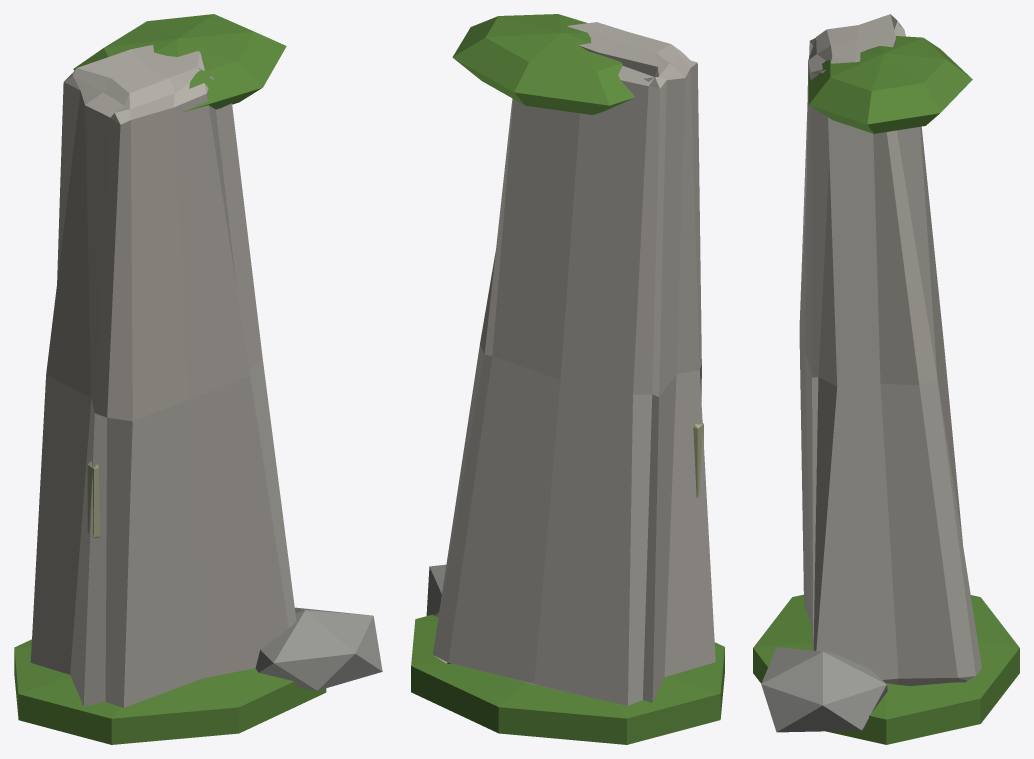
Rendered from grove_standing_stone.glb.
The picture shows the model from 3 angles, left to right: view 1: azimuth 30°, elevation 25°; view 2: azimuth 150°, elevation 25°; view 3: azimuth 270°, elevation 25°; orthographic projection. The views are drawn at different scales.
Visible parts, largest first — view 1: grove_standing_stone; view 2: grove_standing_stone; view 3: grove_standing_stone.
Boxes of the visible parts, x1,y1,x2,y2 form: grove_standing_stone: [14, 14, 382, 744]; grove_standing_stone: [411, 14, 724, 744]; grove_standing_stone: [753, 14, 1019, 744].
Bounding box in the file's own units: 1.42 × 2.76 × 1.05.
